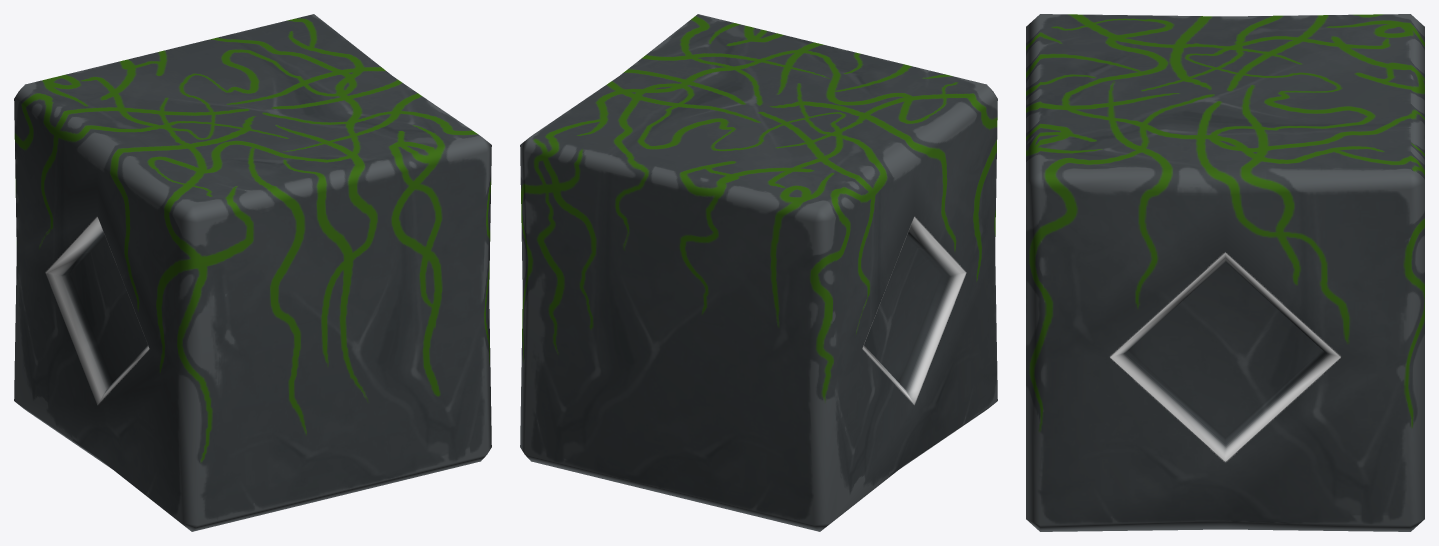
The model's file is stoneCube2v2.fbx.
3 views of the same model, side by side, from view 1: azimuth 30°, elevation 25°; view 2: azimuth 150°, elevation 25°; view 3: azimuth 270°, elevation 25° (orthographic). The views are drawn at different scales.
Parts seen in each view (by area): view 1: stone_cube2; view 2: stone_cube2; view 3: stone_cube2.
Boxes of the visible parts, left/top/right/bottom form: stone_cube2: left=14, top=14, right=491, bottom=531; stone_cube2: left=520, top=14, right=997, bottom=531; stone_cube2: left=1026, top=14, right=1424, bottom=531.
Bounding box in the file's own units: 100 × 100 × 100.
